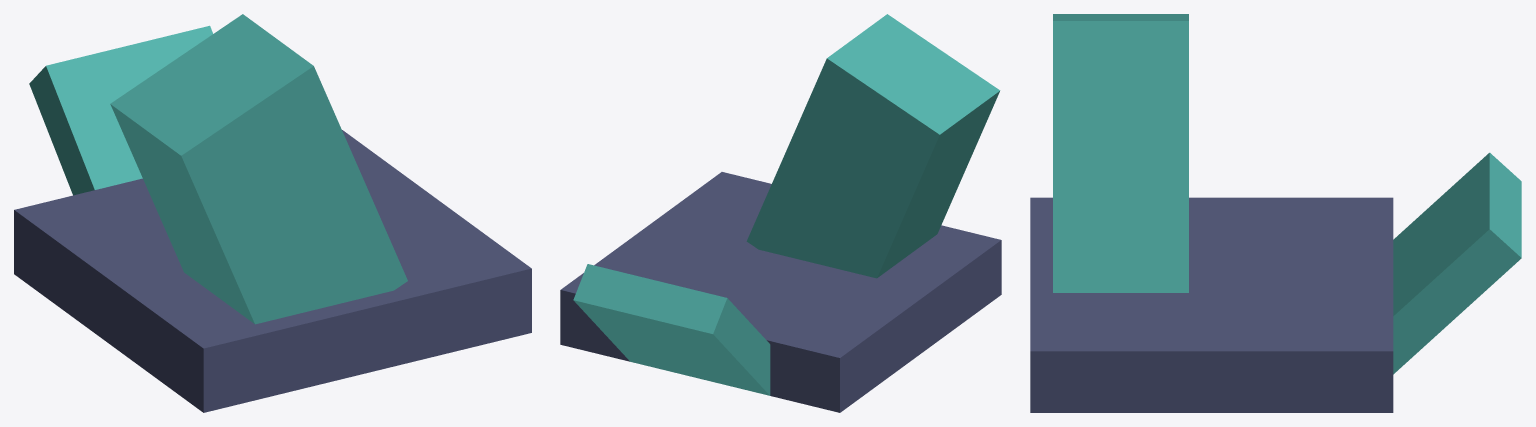
The model's file is test_hat.obj.
The picture shows the model from 3 angles, left to right: view 1: azimuth 30°, elevation 25°; view 2: azimuth 150°, elevation 25°; view 3: azimuth 270°, elevation 25°; orthographic projection. The views are drawn at different scales.
Parts seen in each view (by area): view 1: cube; view 2: cube; view 3: cube.
Boxes of the visible parts, x1,y1,x2,y2 form: cube: (14, 14, 531, 412); cube: (560, 14, 1001, 412); cube: (1030, 14, 1521, 412).
Bounding box in the file's own units: 1.03 × 0.8983 × 1.35.
